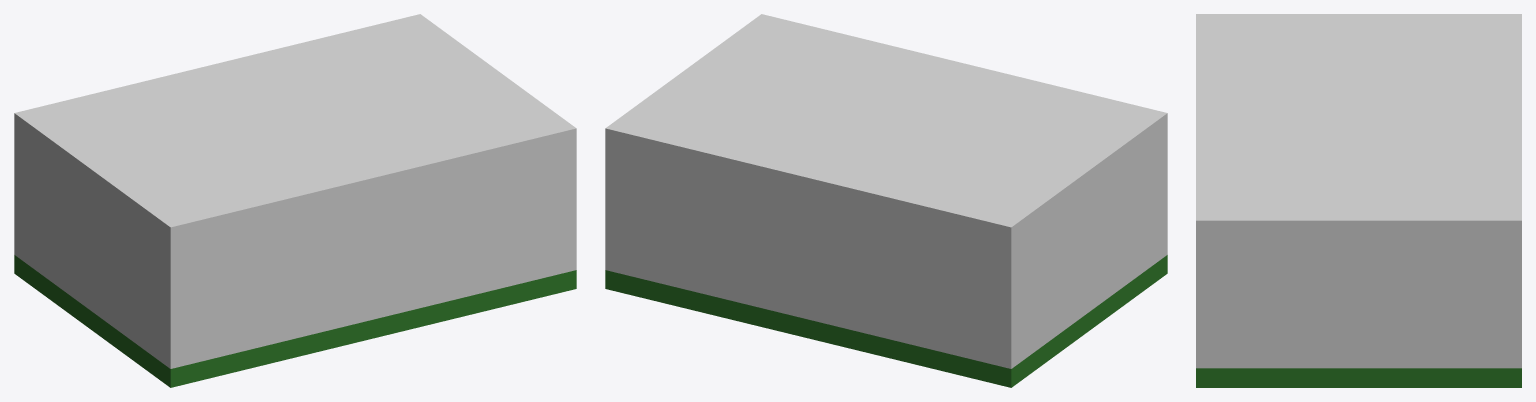
Rendered from mic_mems.gltf.
3 renders of one model, left to right at view 1: azimuth 30°, elevation 25°; view 2: azimuth 150°, elevation 25°; view 3: azimuth 270°, elevation 25°, orthographic. The views are drawn at different scales.
Visible parts, largest first — view 1: box, base; view 2: box, base; view 3: box, base.
Part boxes in pixels (x1=…): box: x1=14, y1=14, x2=576, y2=368; base: x1=14, y1=255, x2=576, y2=387; box: x1=605, y1=14, x2=1167, y2=368; base: x1=605, y1=255, x2=1167, y2=387; box: x1=1196, y1=14, x2=1521, y2=368; base: x1=1196, y1=368, x2=1521, y2=387.
Size of the model in its own units: 4.5 by 1.7 by 3.
